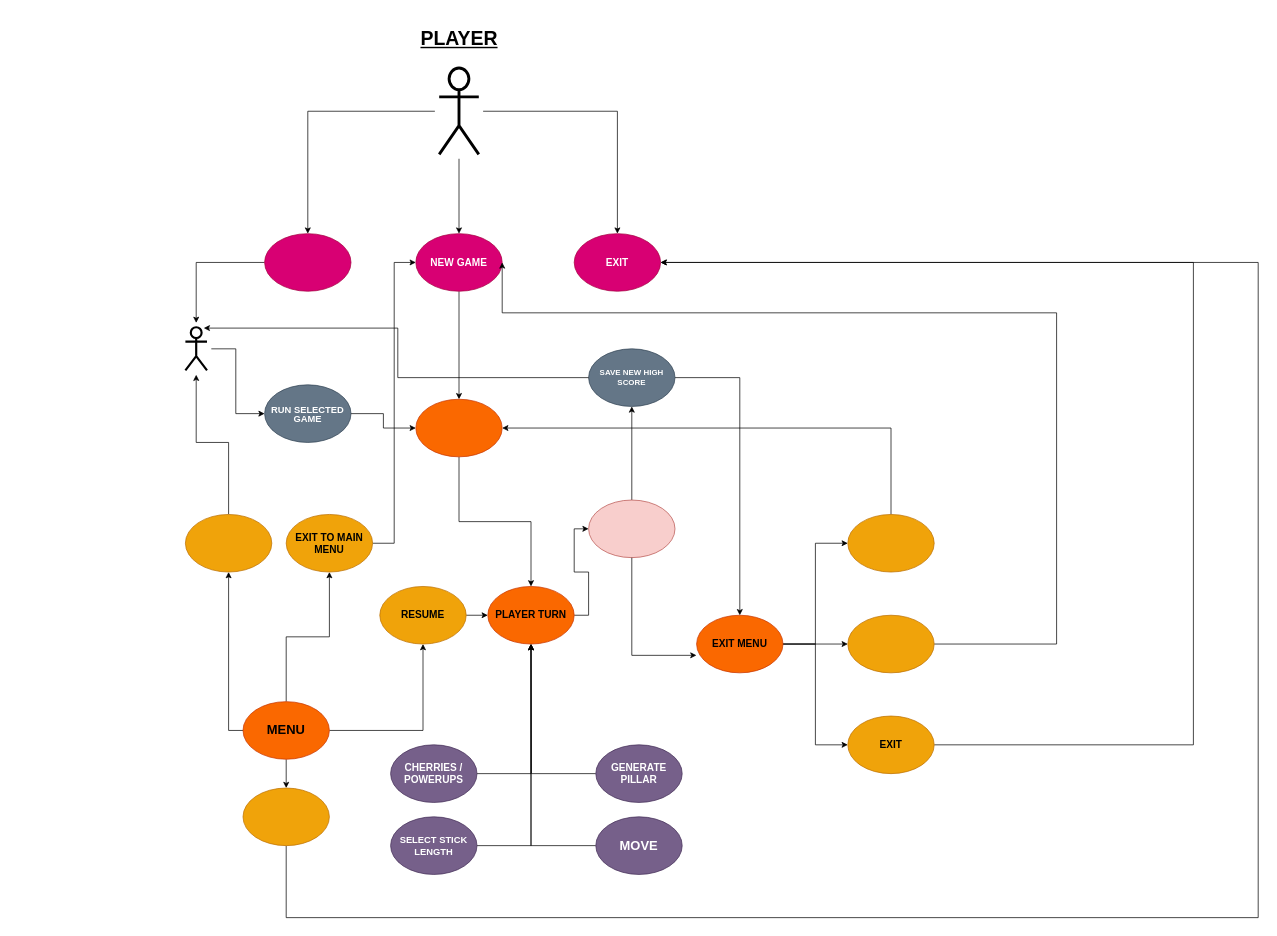
Image size: 1277x936. Some labels were removed from this diagram. Each missing label, with the centre of its shape:
BINARY FILES (STORAGE): (x=196, y=348)
EXIT GAME: (x=285, y=816)
GAME MECHANICS: (x=458, y=428)
GO BACK TO MAIN MENU: (x=890, y=644)
LOAD GAME: (x=307, y=262)
LOSING: (x=631, y=528)
RESTART GAME: (x=890, y=543)
SAVE GAME: (x=228, y=543)
